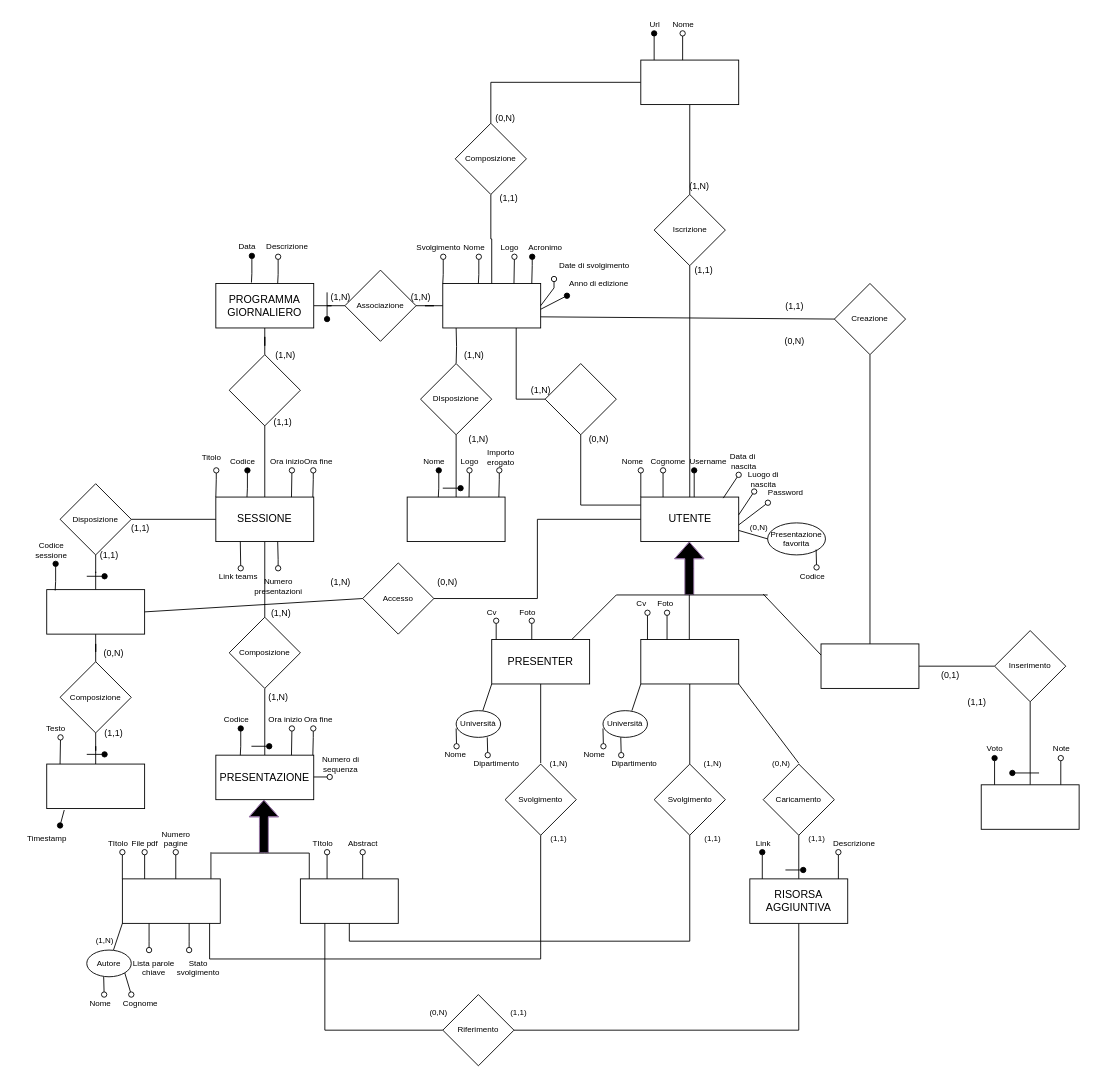
This 1095x1081 diagram has some shape labels left out. The shapes that lost their labels are listed below. From the top down, each one's box as (x1, y1, x2, y2) in pixels, then its label:
(640, 59, 739, 105): PIATTAFORMA
(442, 283, 541, 328): CONFERENZA
(228, 354, 300, 426): Allocazione
(544, 363, 616, 435): Registrazione
(406, 496, 505, 542): SPONSOR
(46, 589, 145, 634): CHAT
(640, 639, 739, 684): SPEAKER
(820, 643, 919, 688): AMMINISTRATORE
(46, 763, 145, 809): MESSAGGIO
(980, 784, 1079, 829): VALUTAZIONE
(121, 878, 220, 923): PRESENTAZIONE ARTICOLO
(299, 878, 398, 923): PRESENTAZIONE TUTORIAL
